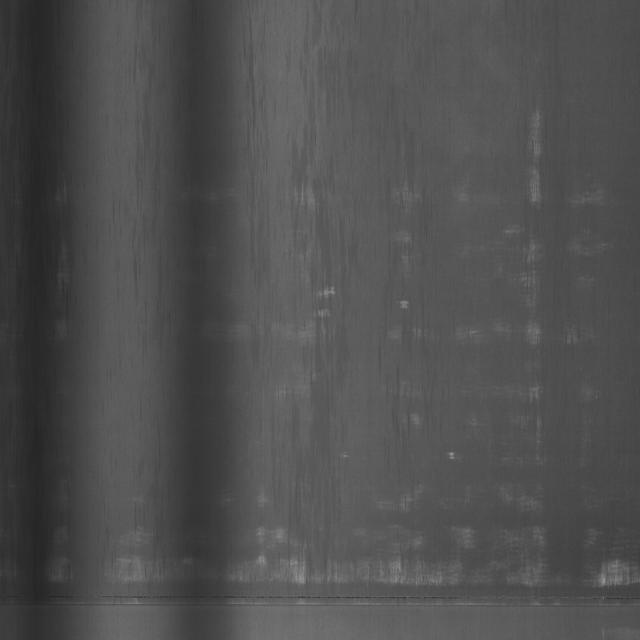crease: (8, 580, 640, 622)
